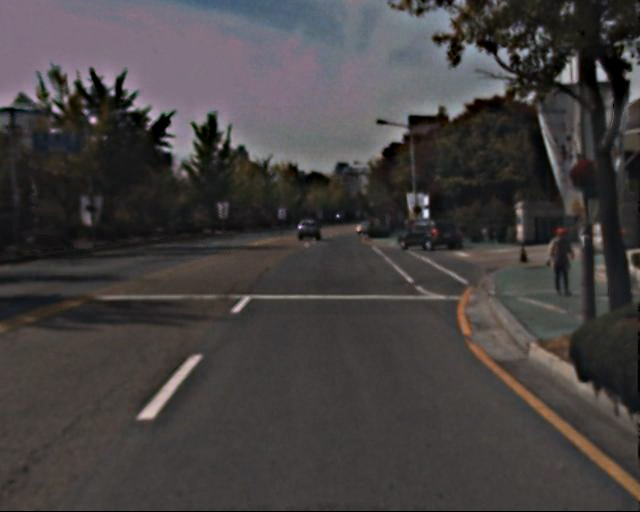person: (545, 225, 575, 298)
